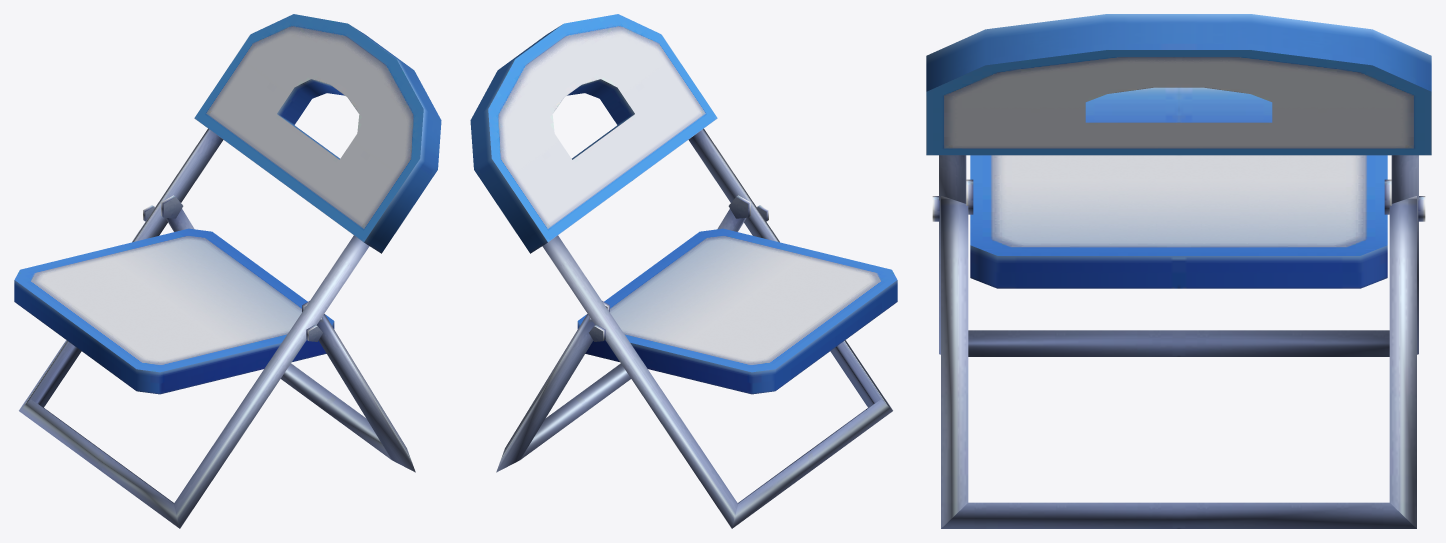
The model's file is my_autumnsports_01_chair_01.glb.
3 views of the same model, side by side, from view 1: azimuth 30°, elevation 25°; view 2: azimuth 150°, elevation 25°; view 3: azimuth 270°, elevation 25° (orthographic). The views are drawn at different scales.
Parts seen in each view (by area): view 1: my_autumnsports_01_chair_01; view 2: my_autumnsports_01_chair_01; view 3: my_autumnsports_01_chair_01.
Boxes of the visible parts, x1=… form: my_autumnsports_01_chair_01: x1=14, y1=14, x2=441, y2=528; my_autumnsports_01_chair_01: x1=470, y1=14, x2=897, y2=528; my_autumnsports_01_chair_01: x1=926, y1=14, x2=1431, y2=528.
Size of the model in its own units: 0.00582 by 0.00643 by 0.00544.
Materials: 1 (1 with a texture image).
